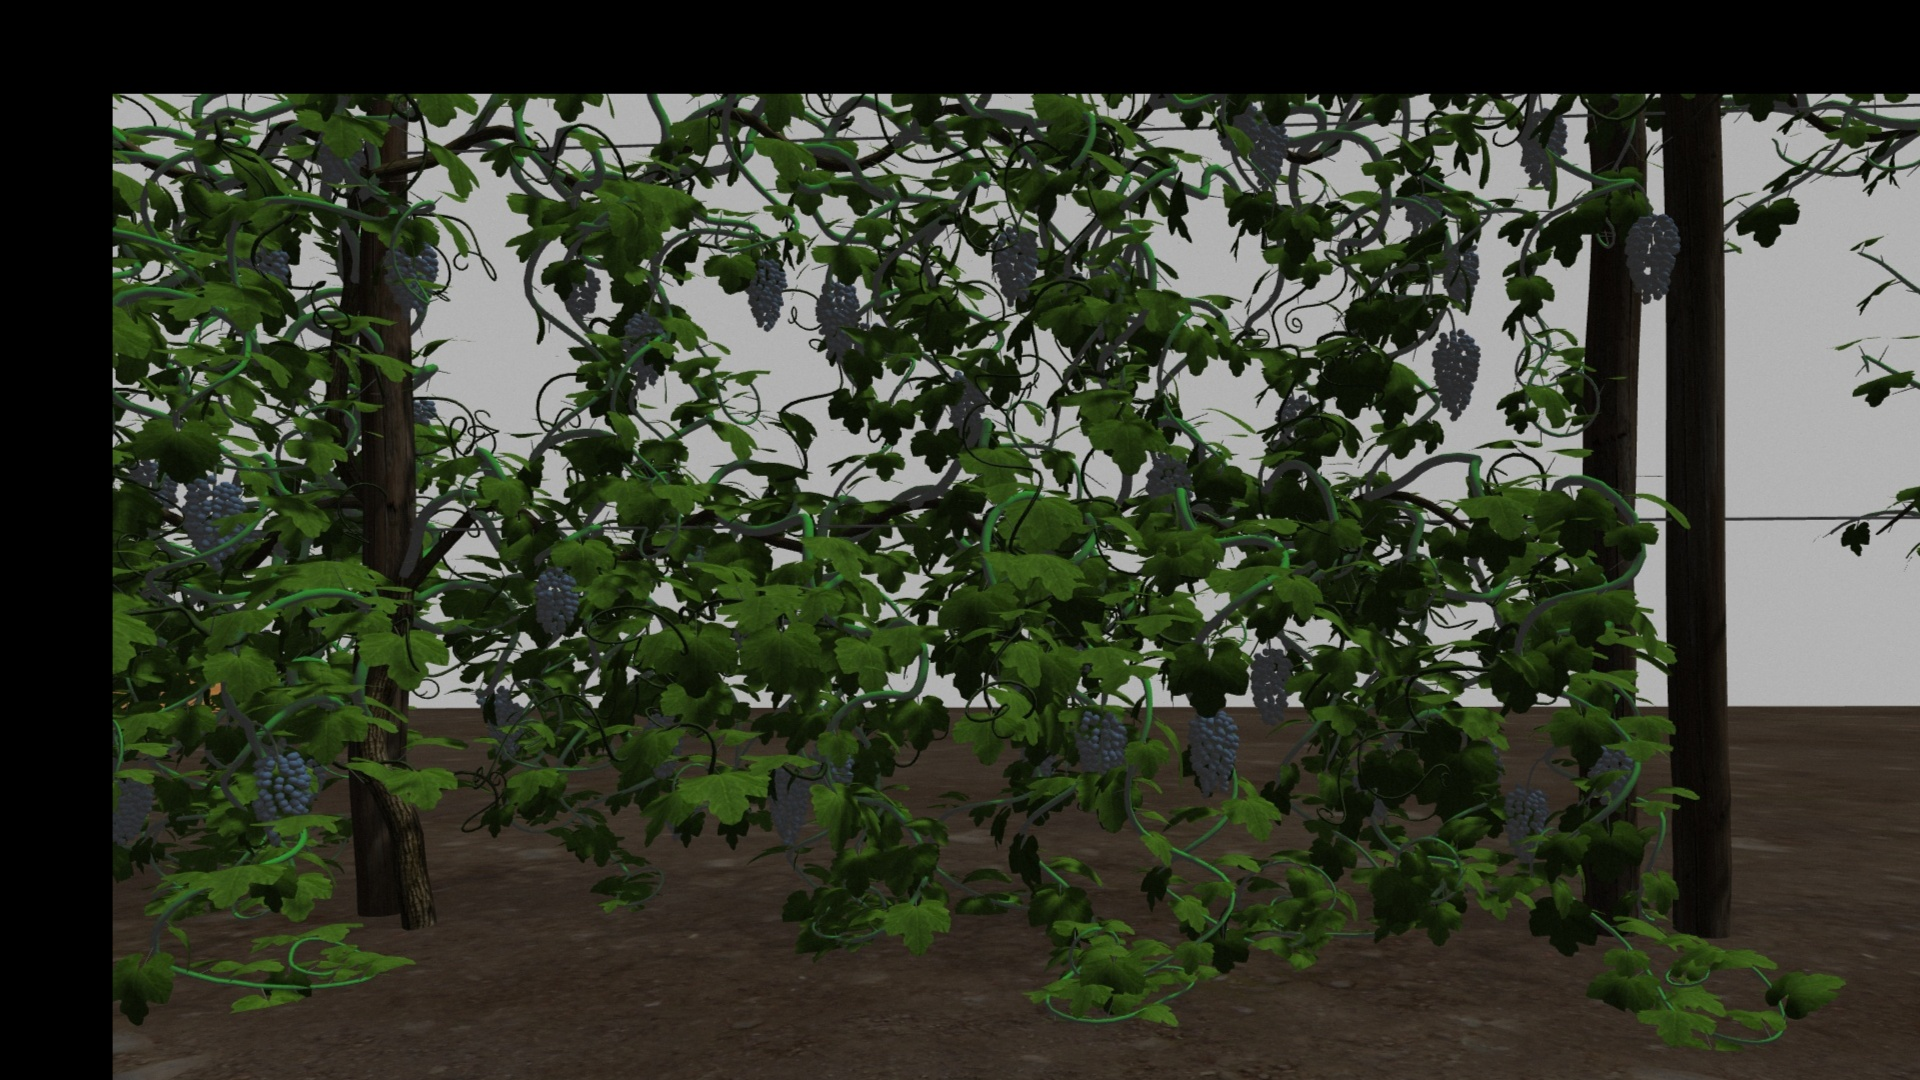grape: (186, 477, 247, 568), (1625, 212, 1683, 305), (248, 748, 314, 825), (1431, 327, 1481, 421), (992, 224, 1047, 307), (1188, 709, 1241, 796), (764, 757, 814, 847), (814, 278, 862, 363), (1246, 647, 1296, 728), (1520, 109, 1569, 191), (381, 243, 438, 313), (742, 249, 789, 331), (624, 311, 666, 392), (1076, 711, 1127, 777), (1502, 785, 1547, 858), (531, 568, 582, 634), (1250, 116, 1288, 189), (1443, 247, 1481, 309), (1213, 103, 1261, 152), (1145, 456, 1193, 504), (1592, 752, 1633, 804), (564, 266, 600, 316)
